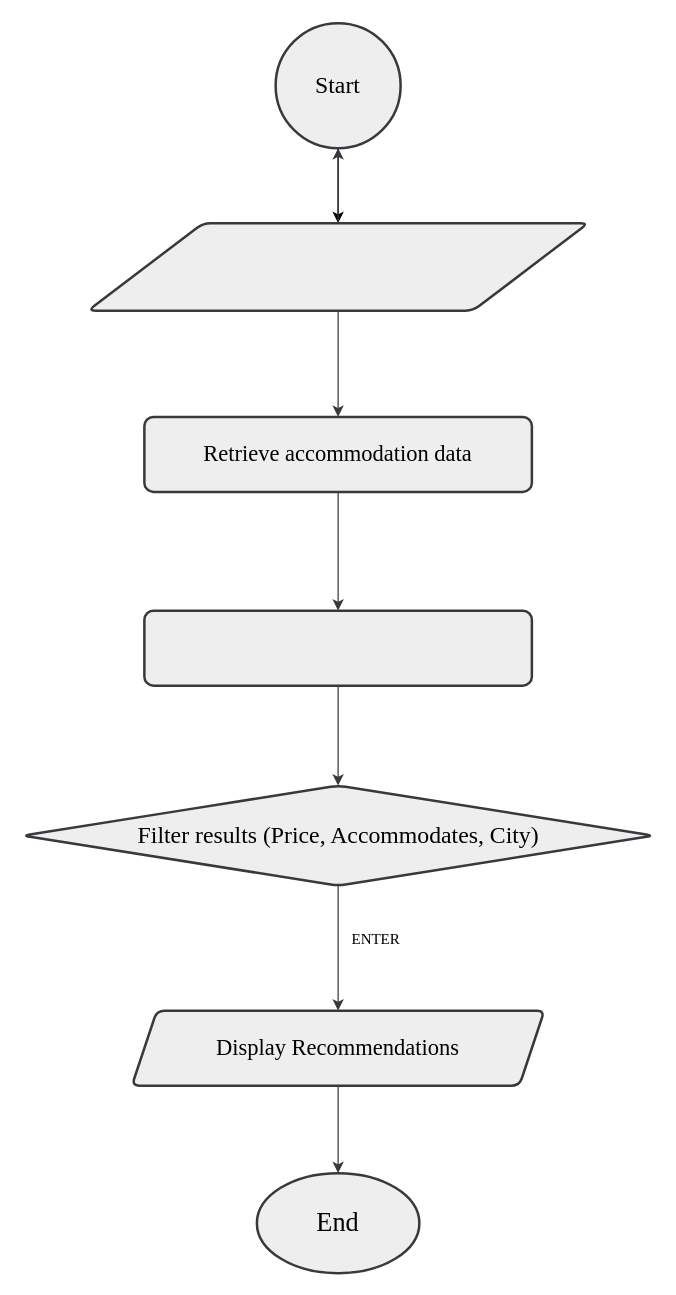
Some shapes in this 676 by 1295 pixel diagram are drawn without their labels. The centre of each missing label's shape, as x and y in pixels:
"User inputs their ideal accommodation" belongs at point 337,266.
"Word2vec model" belongs at point 337,647.
